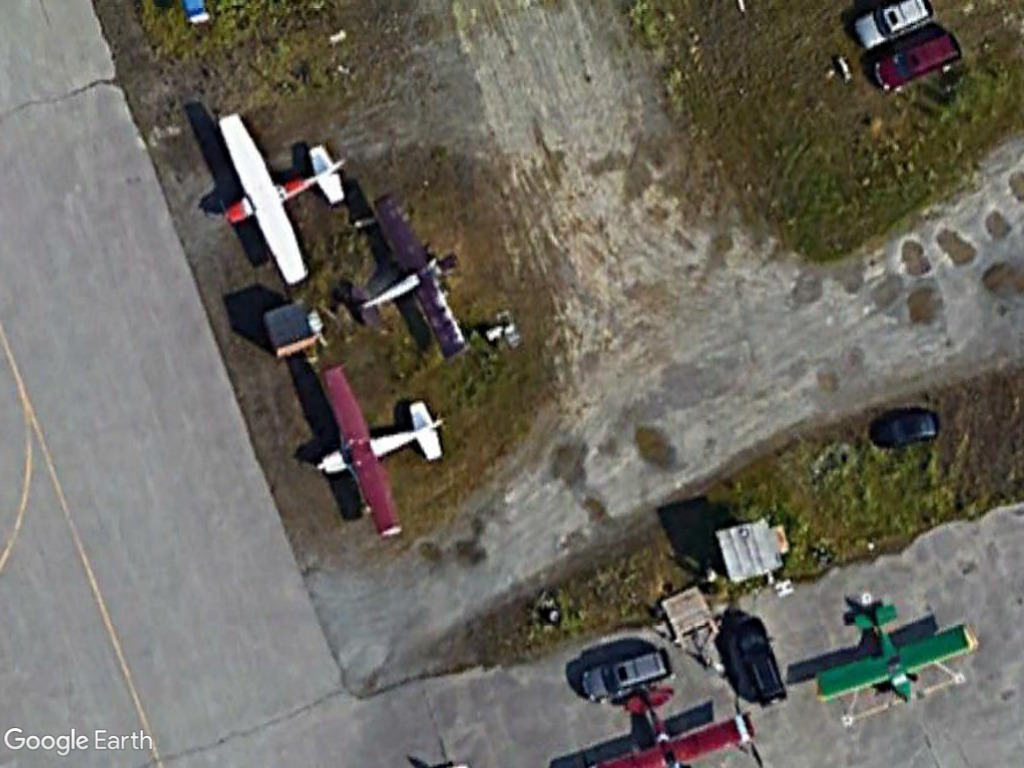car: (867, 27, 965, 92), (581, 646, 674, 705)
trainer: (347, 184, 489, 366), (306, 364, 448, 544), (213, 106, 349, 287), (805, 603, 974, 709)
